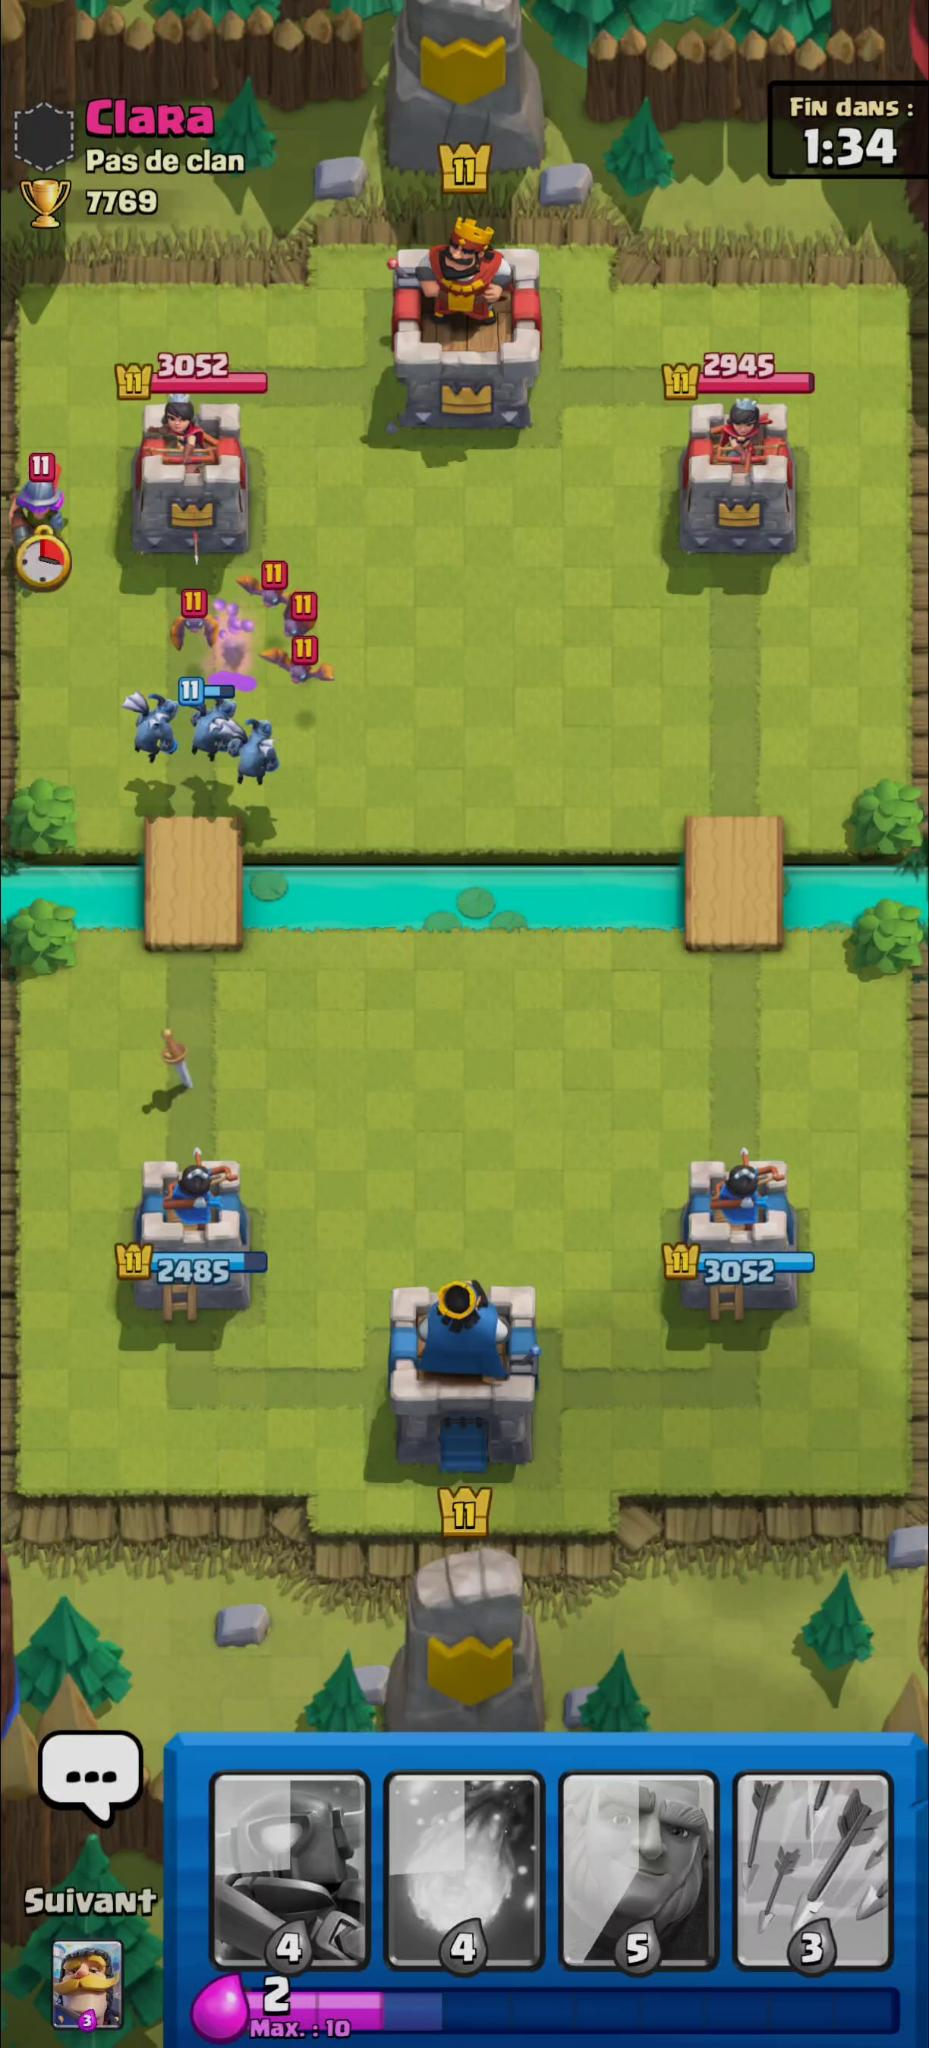bat: (263, 643, 337, 686), (170, 607, 221, 654), (235, 575, 299, 611), (285, 598, 316, 641)
gargouille: (221, 713, 285, 784), (127, 695, 182, 761), (187, 700, 240, 761)
mousquetaire: (10, 470, 76, 547)
